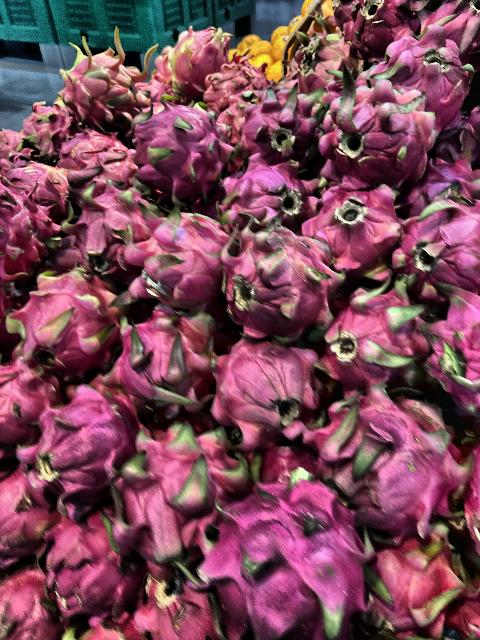buah-naga-belum-matang: (222, 224, 338, 336), (52, 38, 154, 132), (50, 129, 140, 191), (284, 29, 362, 97), (158, 19, 227, 92), (10, 158, 78, 226), (196, 63, 268, 119)
buah-naga-matang: (210, 478, 372, 640), (316, 390, 466, 534), (106, 423, 242, 573), (18, 382, 144, 503), (202, 334, 332, 448), (314, 75, 436, 192), (114, 201, 228, 309), (15, 268, 120, 384), (109, 310, 215, 424), (368, 24, 474, 136), (314, 284, 428, 388), (292, 172, 400, 278), (125, 102, 232, 202), (34, 512, 140, 612), (64, 184, 154, 272), (234, 90, 322, 174), (225, 155, 311, 227), (1, 358, 61, 456), (0, 560, 70, 640), (1, 466, 56, 566)
